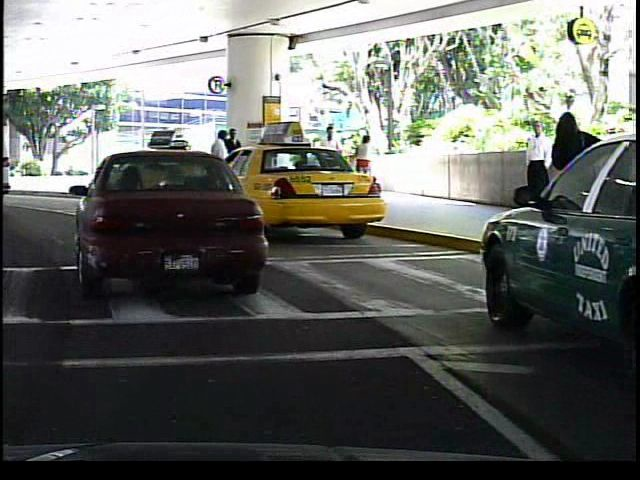person: (544, 104, 601, 258), (514, 112, 554, 223), (314, 122, 344, 194), (206, 128, 232, 199), (349, 130, 377, 192), (224, 125, 244, 195)
